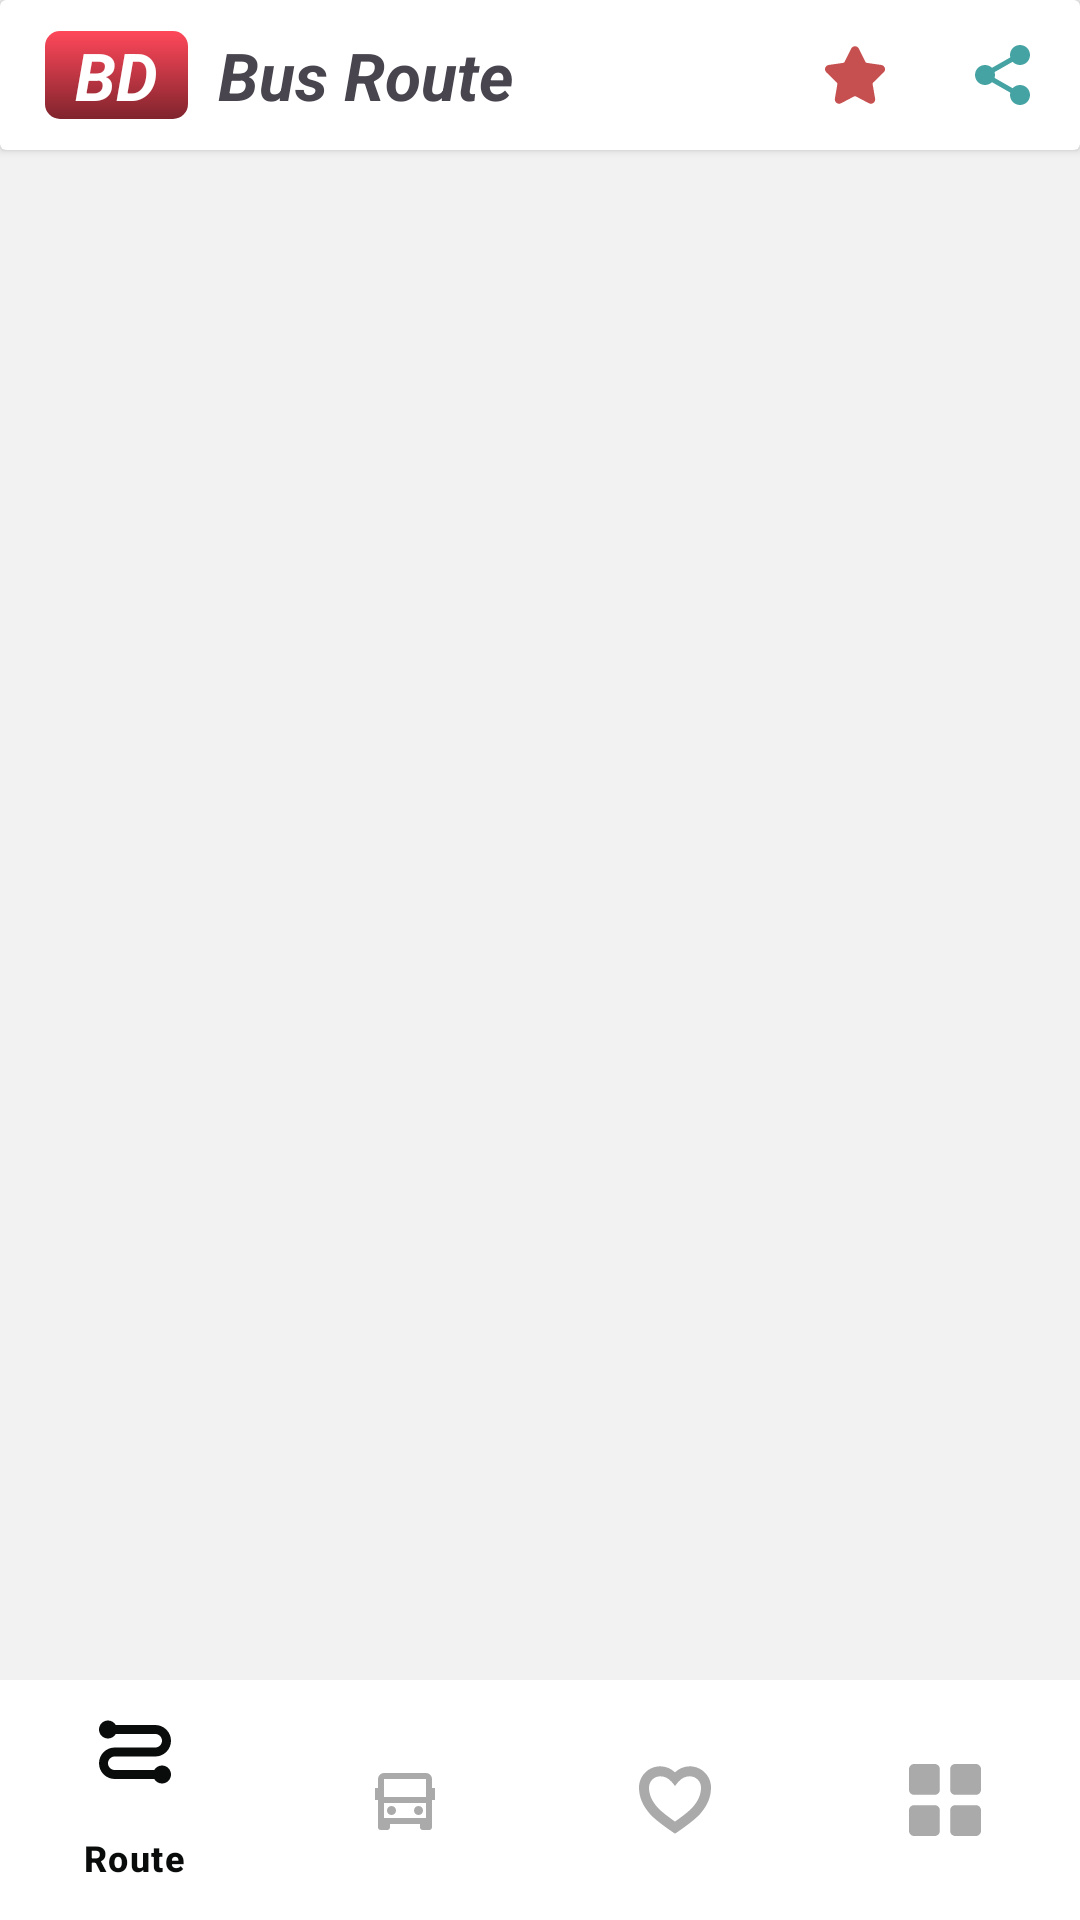

Icon bounding boxes for this 1080 x 1920 phone screenshot, format (x1, y1, x2, y2):
rating: (825, 46, 885, 104)
